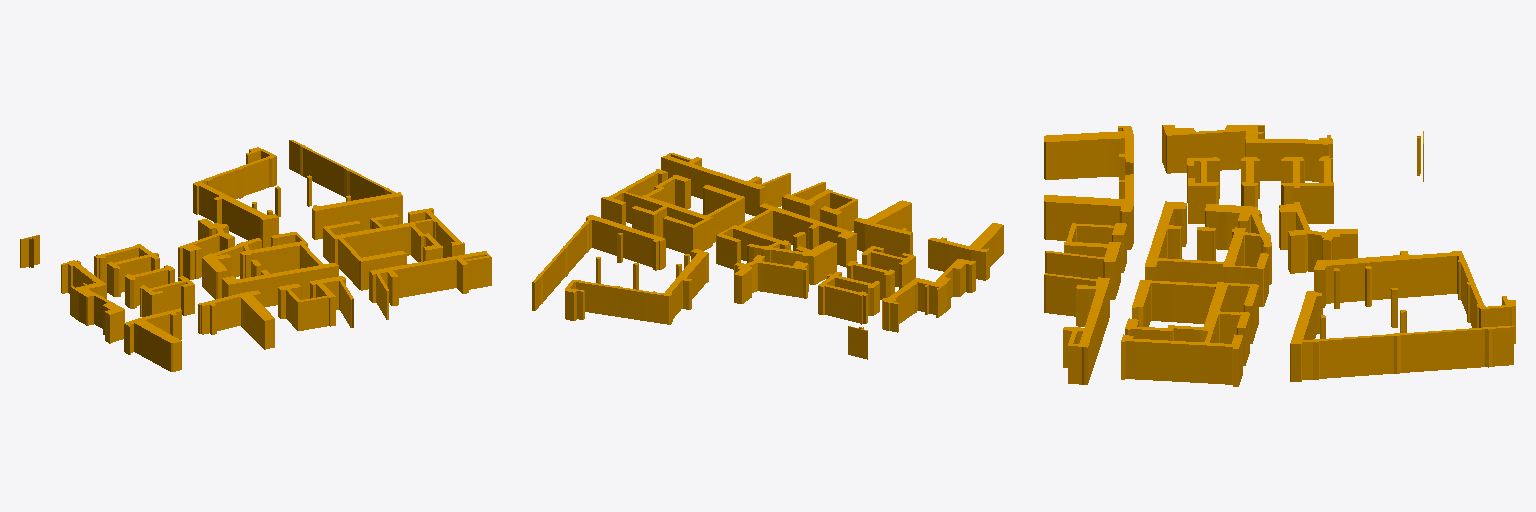
robot.urdf — Floorplan_demo_ROPOD:
<?xml version="1.0"?>
<robot name="Floorplan_demo_ROPOD">


<link name="map">
	<inertial>
		<mass value="500"/>
		<inertia
			ixx="1000.0" ixy="0.0" ixz="0.0"
			iyy="1000.0" iyz="0.0"
			izz="1000.0"/>
	</inertial>	  
	
	<visual name="map_visual">
		<origin rpy="0 0 0" xyz="0 0 0"/>
		<geometry>
			<mesh 
				filename="package://pico_navigation_test/config/shape/heightmap_sim.stl"
				scale="0.0015 0.0015 0.002"		
			/>
		</geometry>
	</visual>
	
	<collision name="map_collision">	
		<origin rpy="0 0 0" xyz="0 0 0"/>	
		<geometry>
			<mesh 
				filename="package://pico_navigation_test/config/shape/heightmap_sim.stl"
				scale="0.0015 0.0015 0.002"		
			/>
		</geometry>
	</collision>   

</link>  

<gazebo reference="map">
	<maxContacts>10</maxContacts>
	<laserRetro>0</laserRetro>
	<dampingFactor>0.01</dampingFactor>
	<selfCollide>false</selfCollide>
</gazebo>

</robot>

--- Render facts (derived) ---
Views: 3 orthographic renders of the robot side by side, from view 1: azimuth 30°, elevation 25°; view 2: azimuth 150°, elevation 25°; view 3: azimuth 270°, elevation 25°.
Model Floorplan_demo_ROPOD with 1 links and 0 joints (none), rooted at map, posed all joints at 0.
Links seen in each view (by area): view 1: map; view 2: map; view 3: map.
Boxes of the visible links, x1,y1,x2,y2 form: map: [20, 140, 491, 371]; map: [532, 153, 1003, 359]; map: [1044, 125, 1515, 386].
Size in the robot's own frame: 25.42 by 22.5 by 2 metres.
Meshes: 1 distinct files referenced, 1 mesh visuals loaded (1 ASCII STL).